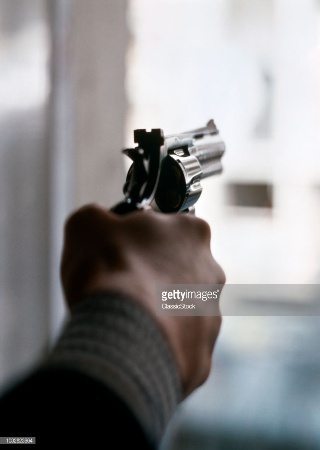handgun: (120, 118, 229, 217)
